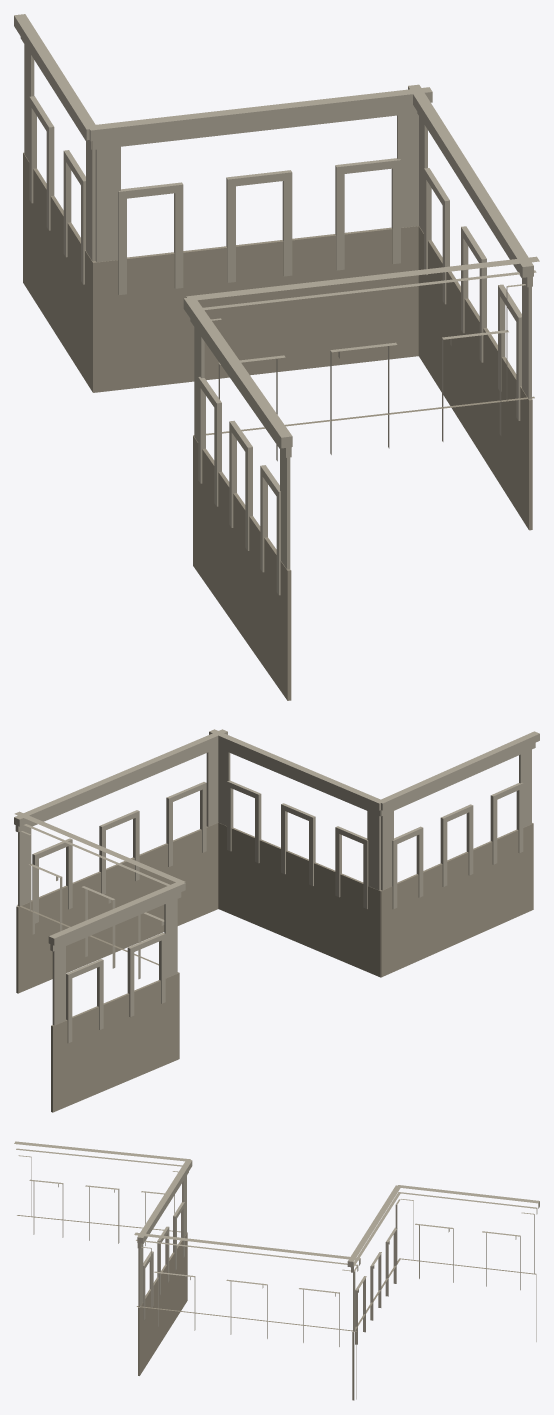
3 views of the same model, one above another, from view 1: azimuth 30°, elevation 25°; view 2: azimuth 150°, elevation 25°; view 3: azimuth 270°, elevation 25° (orthographic). The views are drawn at different scales.
Visible parts, largest first — view 1: detail; view 2: detail; view 3: detail.
Boxes of the visible parts, bbox=[...] form: detail: bbox=[14, 14, 539, 700]; detail: bbox=[14, 729, 539, 1112]; detail: bbox=[14, 1141, 539, 1400].
Size of the model in its own units: 12.88 by 6.96 by 23.75.
